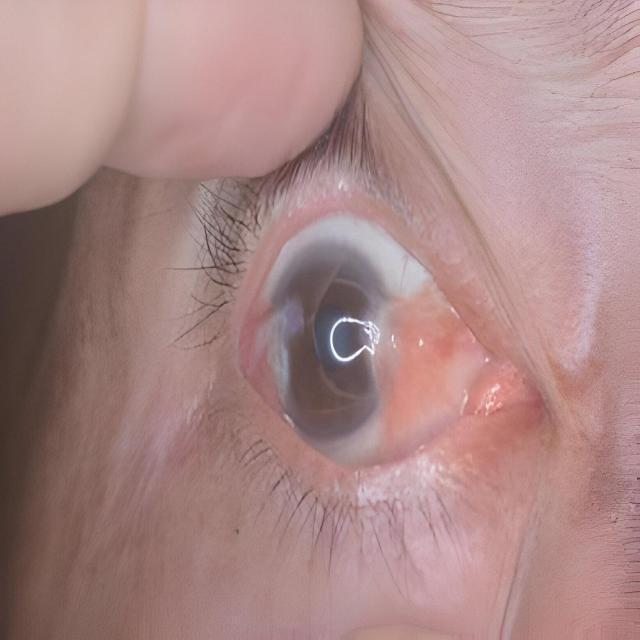Pterygium: (363, 296, 492, 454), (241, 284, 302, 407)
